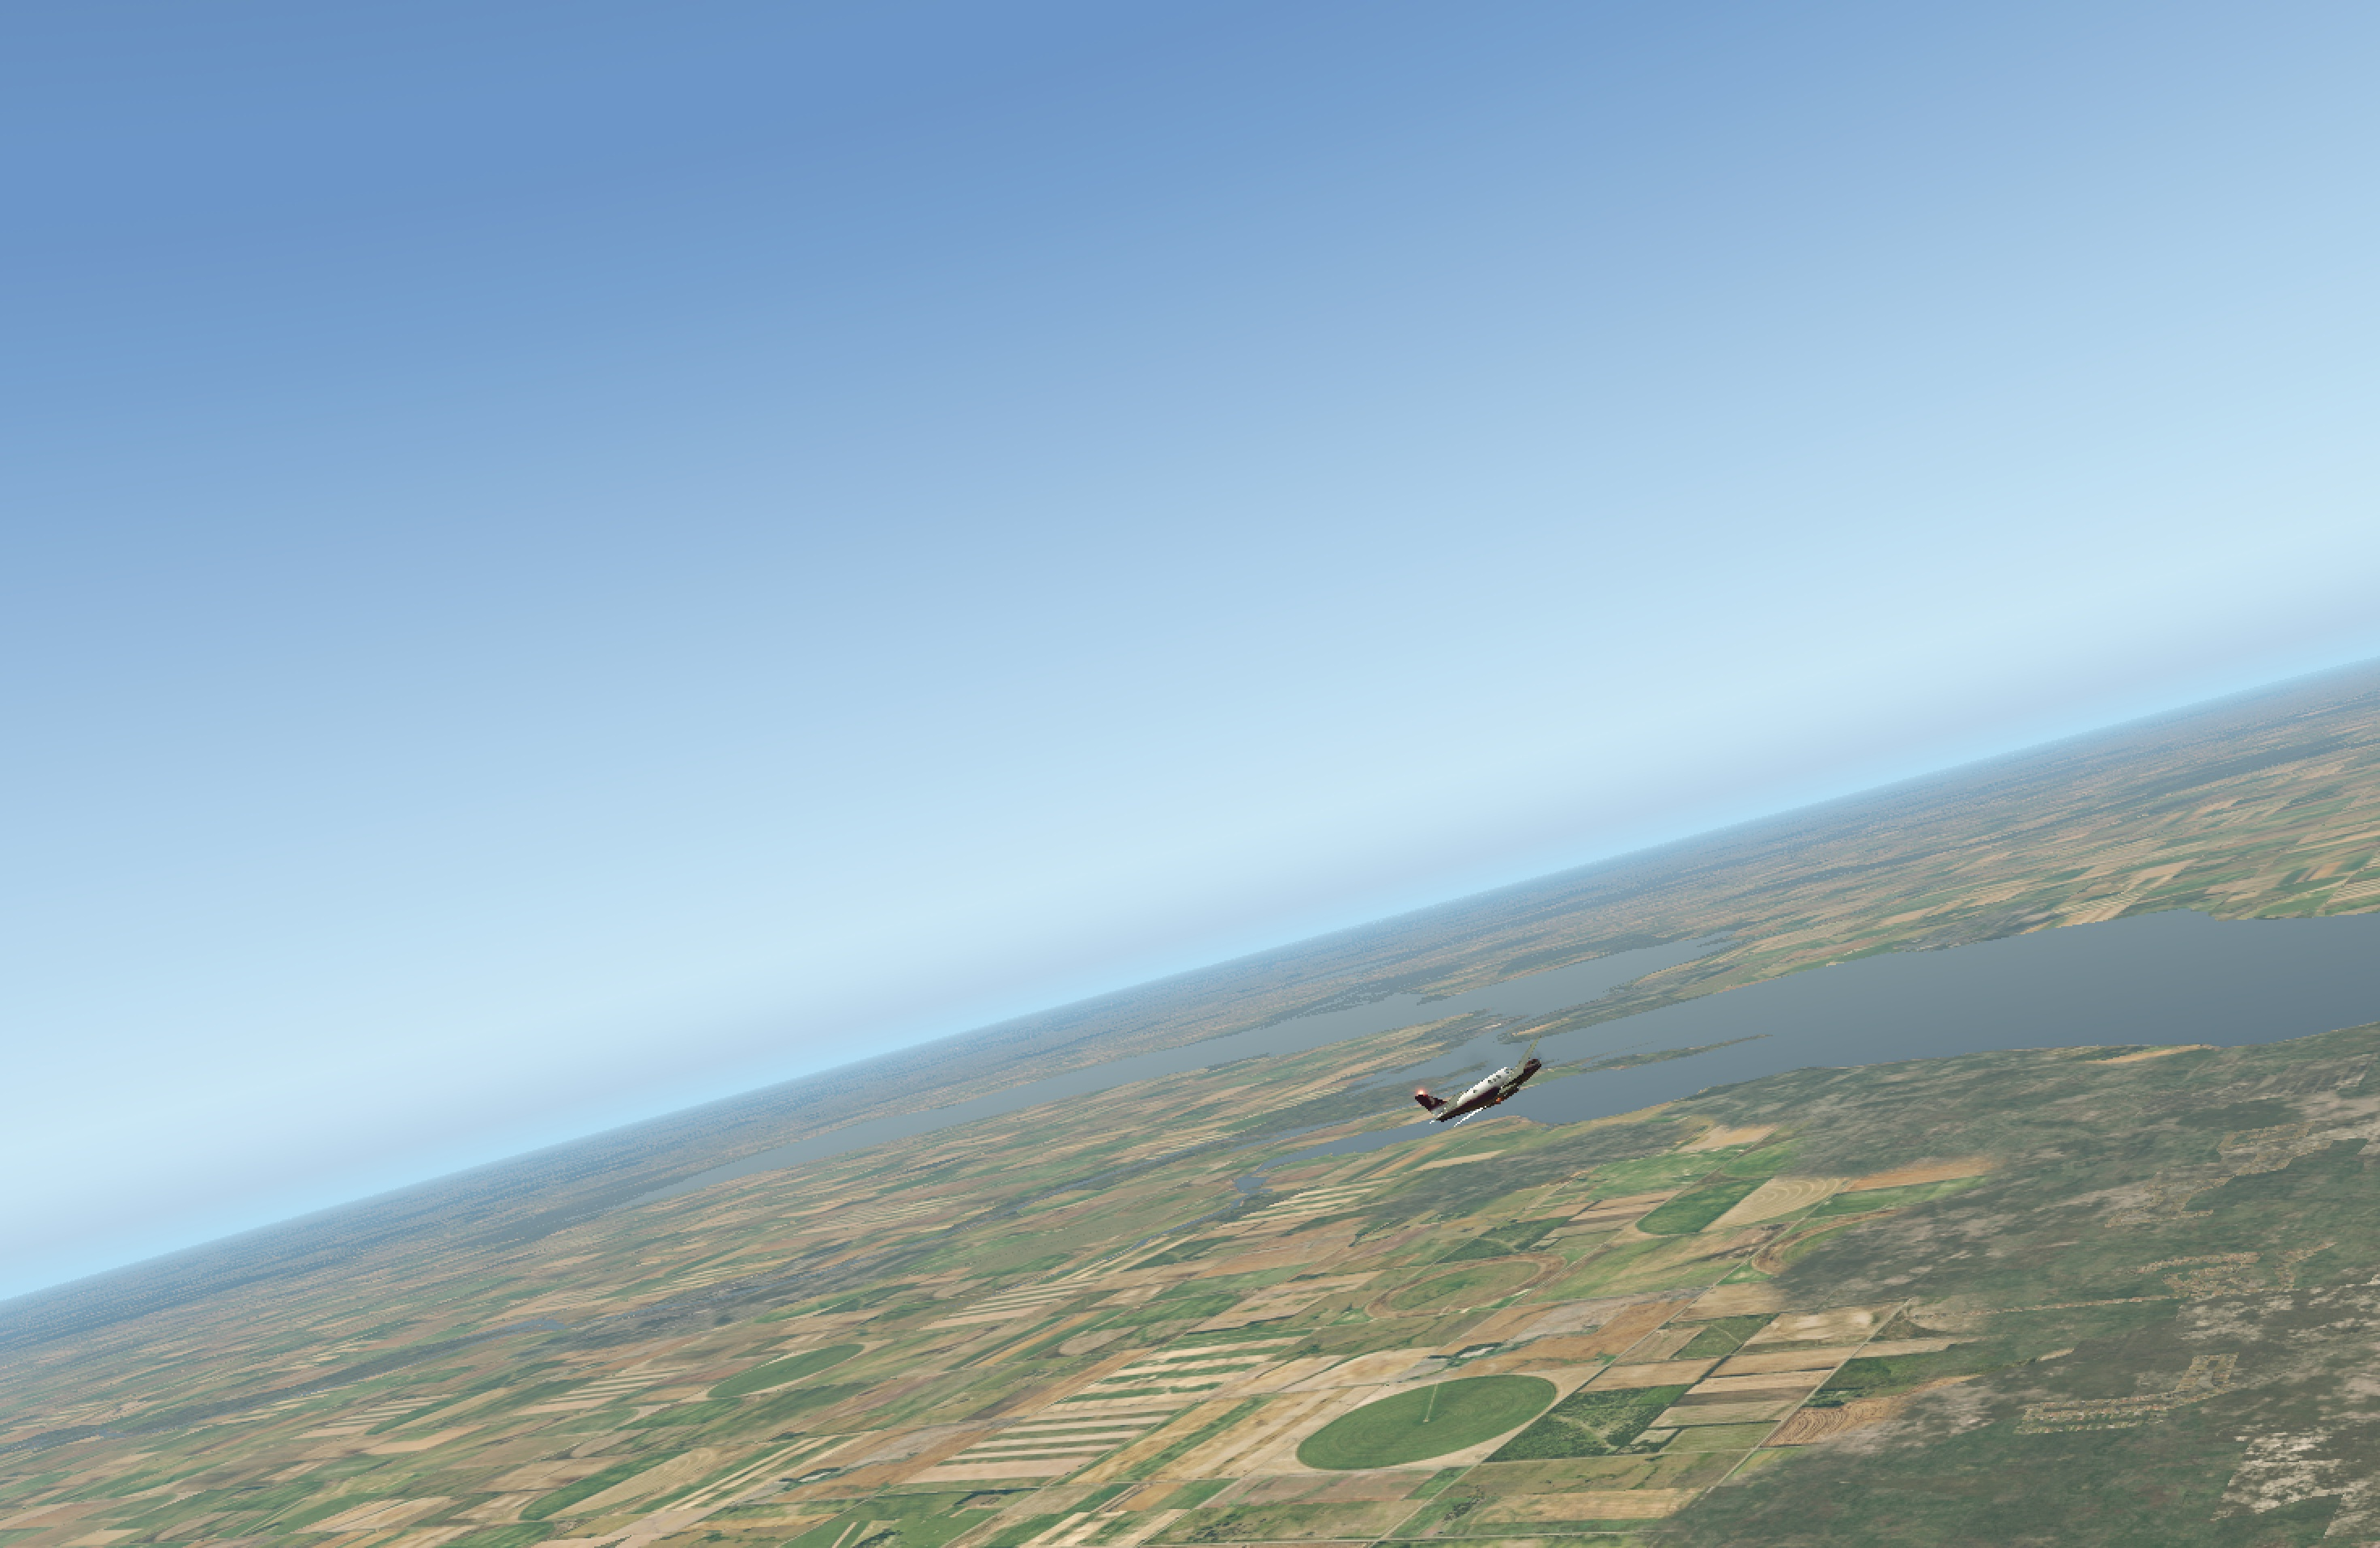aircraft: (1407, 1053, 1608, 1128)
